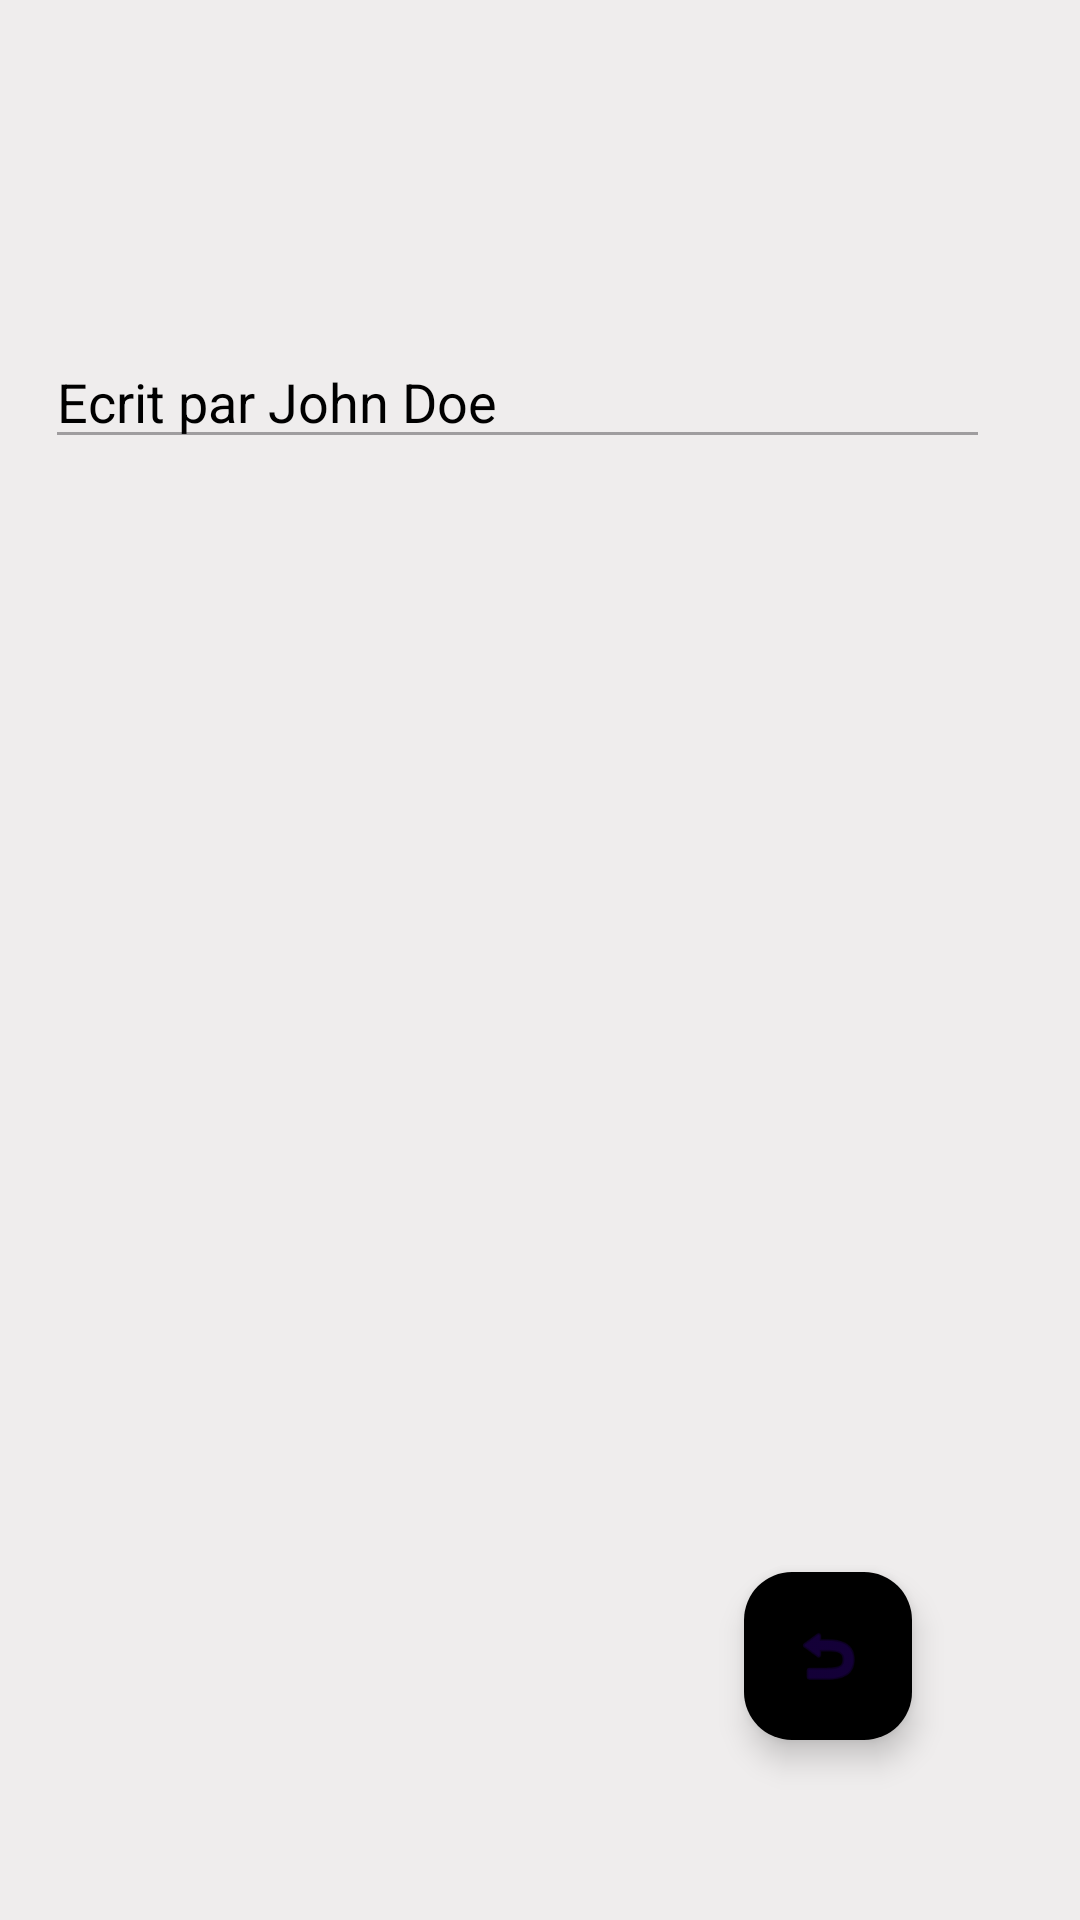

Icons on this 1080 × 1920 Android screen, each with its box as (x1, y1, x2, y2):
revert: (744, 1572, 912, 1740)
